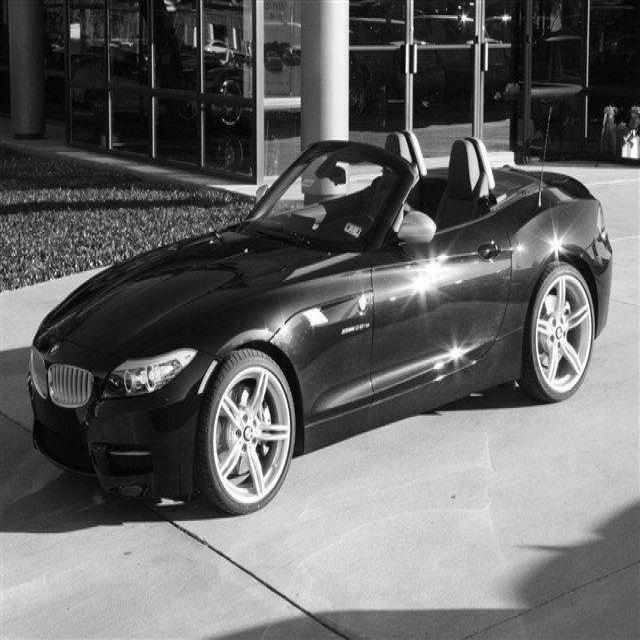car: (26, 126, 613, 516)
